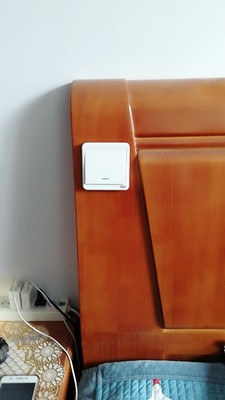switch: (81, 144, 129, 189)
